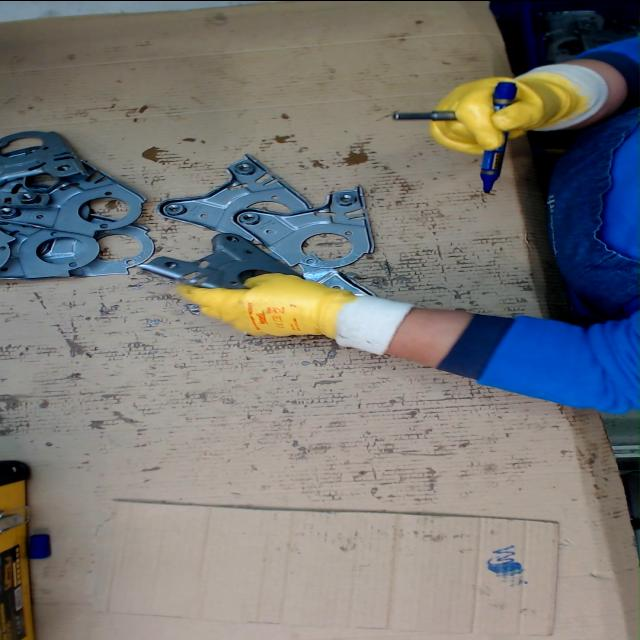hands: (170, 268, 378, 340), (427, 73, 582, 161)
